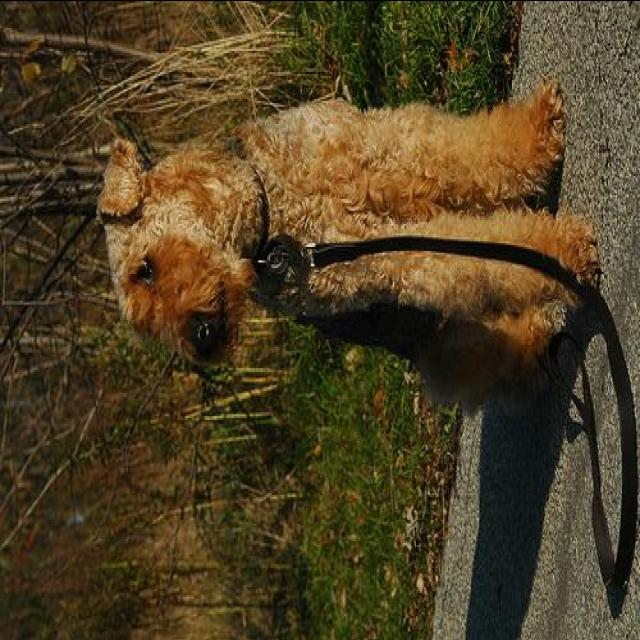airedale: (93, 79, 599, 421)
